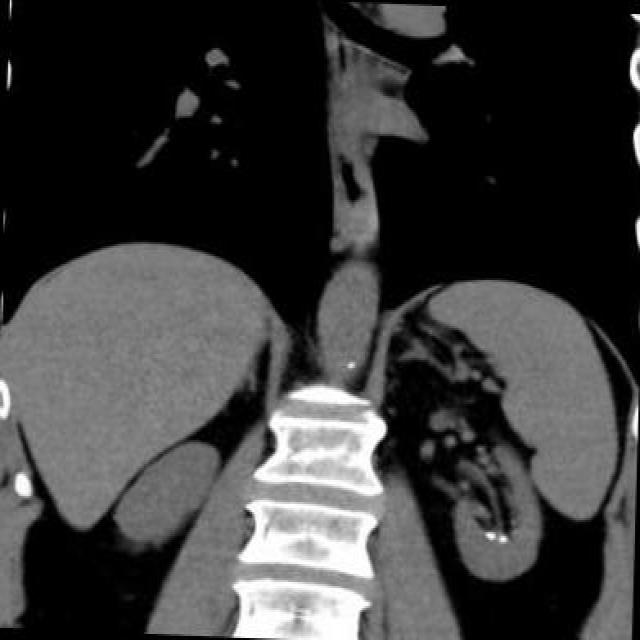Tas_Var: (484, 527, 496, 541), (497, 533, 510, 545)
